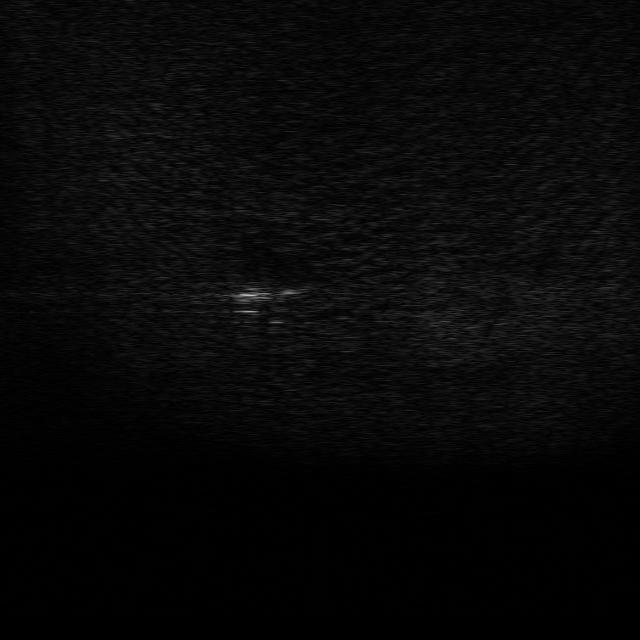plane: (229, 283, 319, 326)
